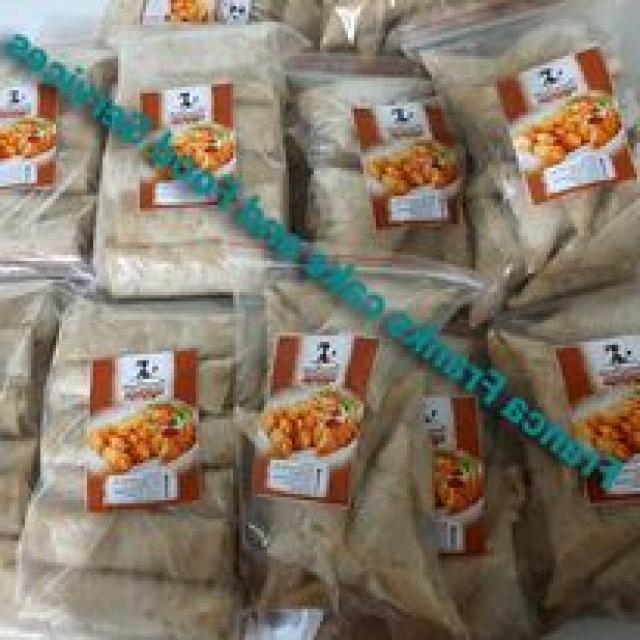Samosa: (269, 3, 638, 640)
Spring Rolls: (6, 25, 280, 615)
